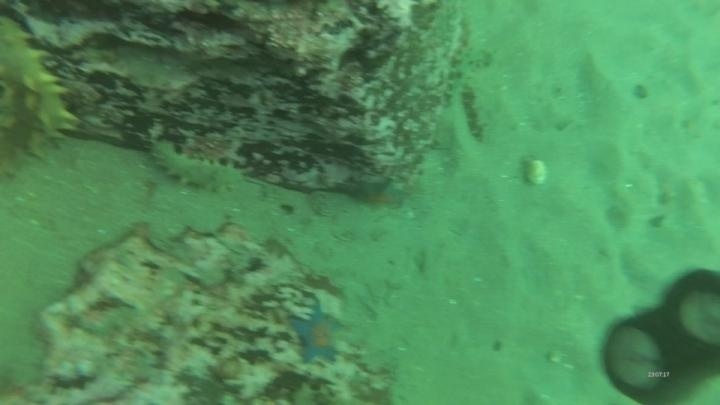holothurian: (0, 11, 77, 180), (145, 136, 252, 197), (453, 65, 492, 146)
starfish: (285, 298, 350, 368), (348, 175, 411, 214)
